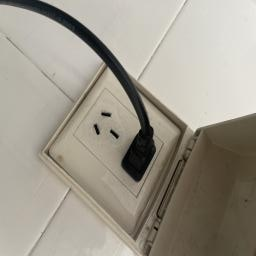outlet: (35, 36, 197, 248)
